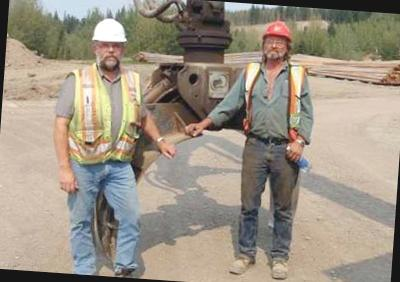helmet: (90, 15, 131, 54), (260, 17, 295, 46)
person: (42, 14, 164, 279), (218, 14, 324, 282)
